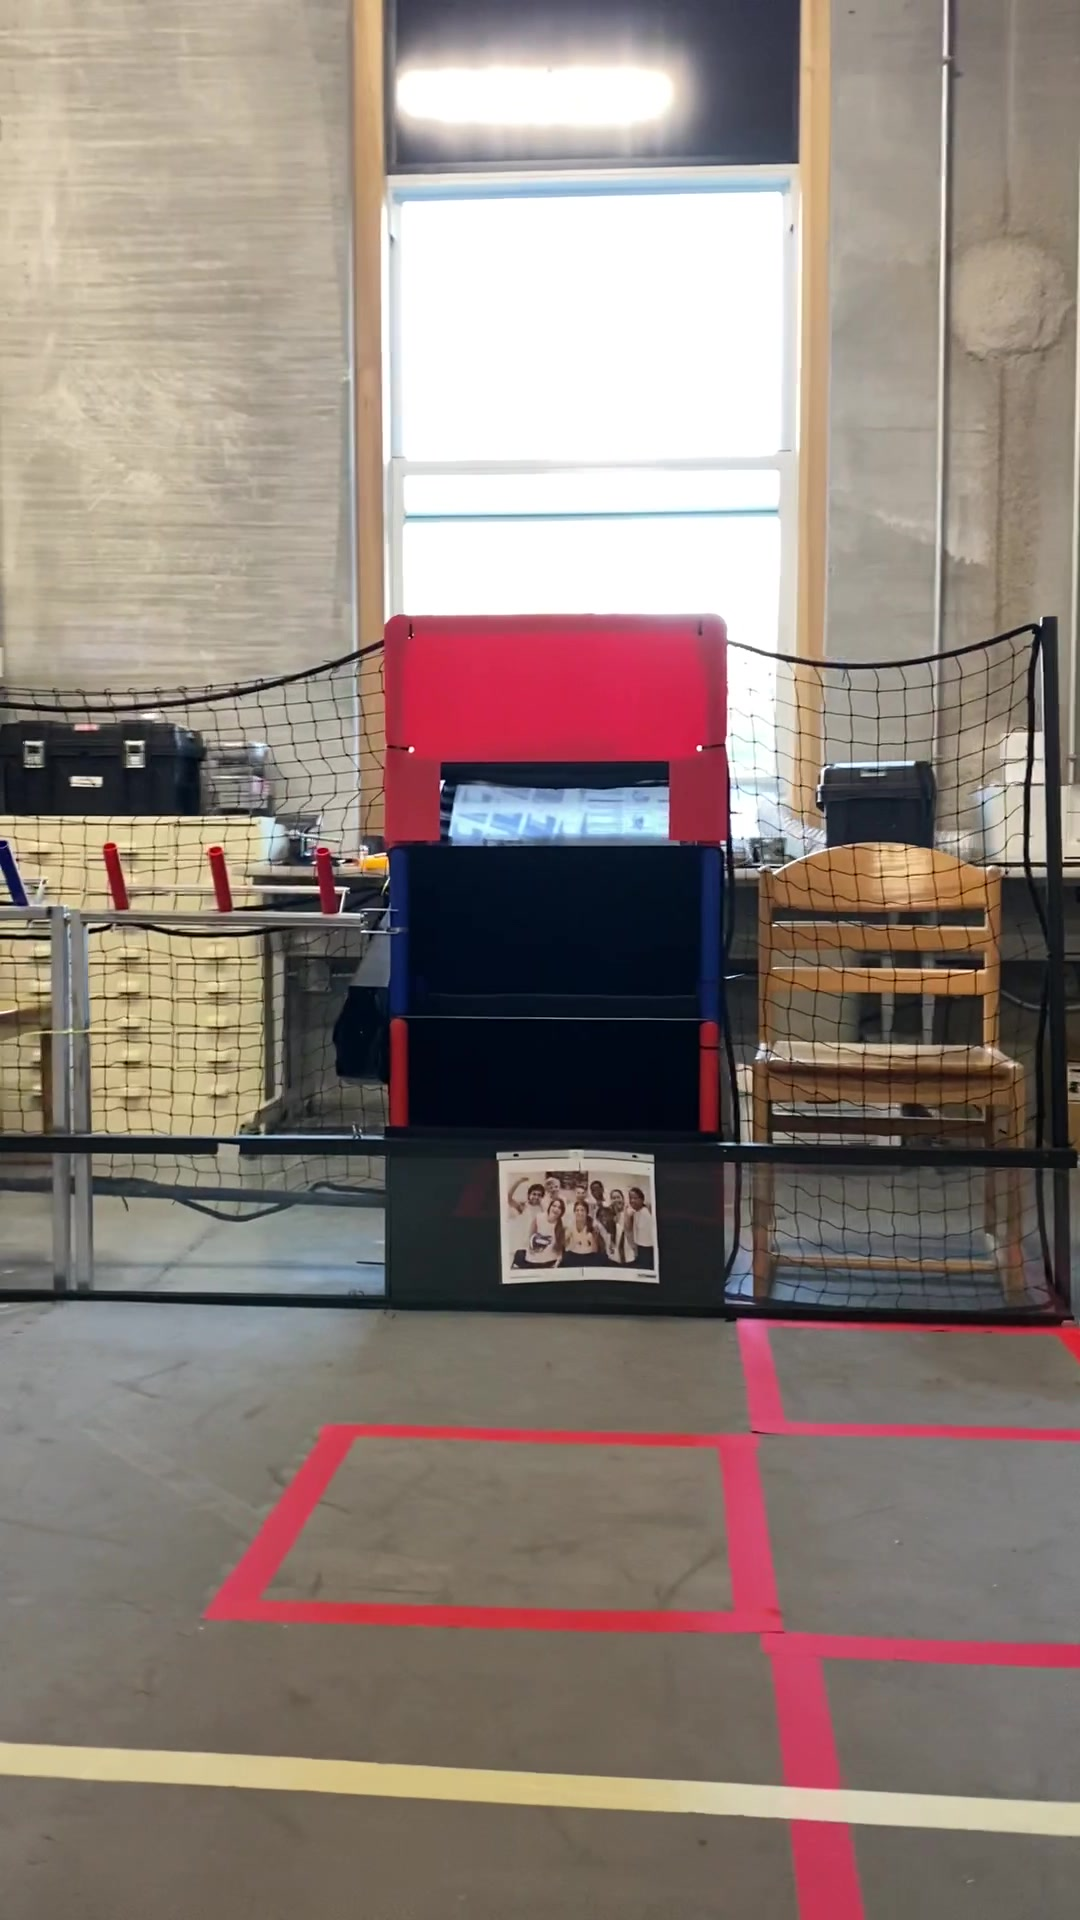high_goal: (436, 762, 671, 847)
